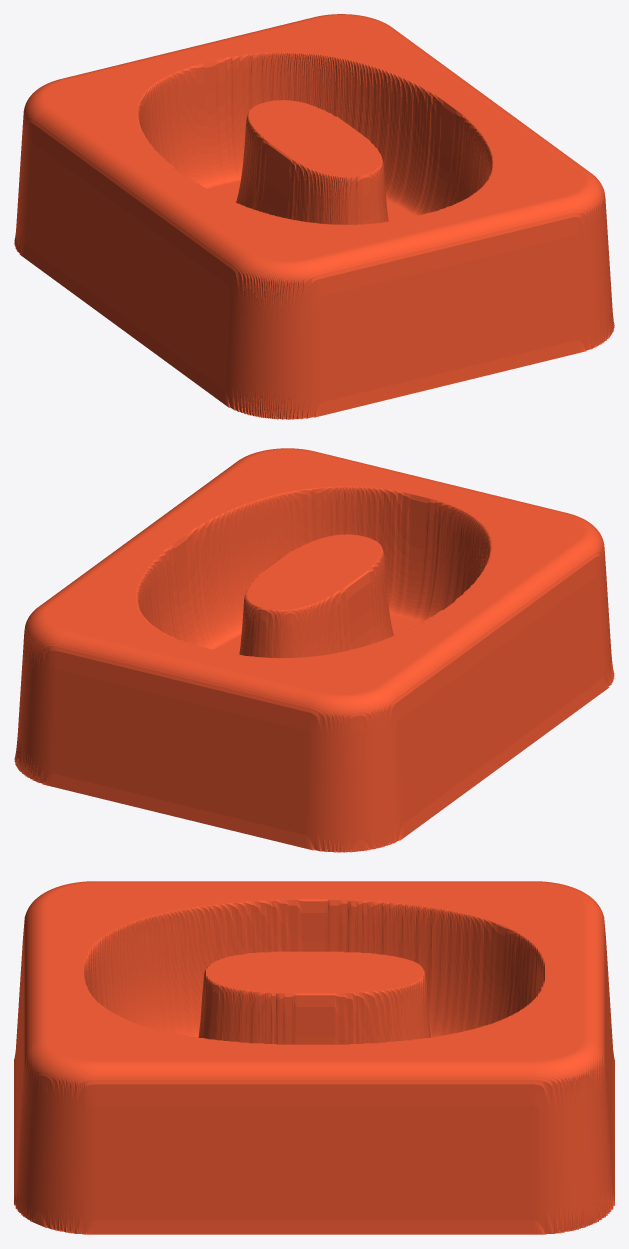
File: mold.glb
3 renders of one model, top to bottom at view 1: azimuth 30°, elevation 25°; view 2: azimuth 150°, elevation 25°; view 3: azimuth 270°, elevation 25°, orthographic. The views are drawn at different scales.
Parts seen in each view (by area): view 1: geometry_0; view 2: geometry_0; view 3: geometry_0.
Part boxes in pixels (x1,y1,x2,y2): geometry_0: (14,14,614,419); geometry_0: (14,448,614,852); geometry_0: (14,881,614,1234).
Size of the model in its own units: 0.054 by 0.0197 by 0.067.
